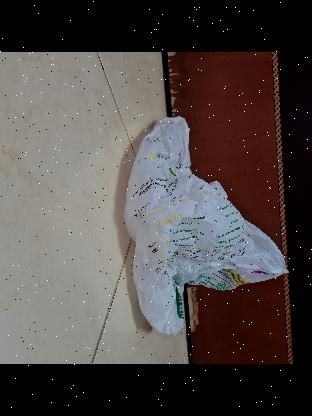Others: (116, 110, 298, 340)
